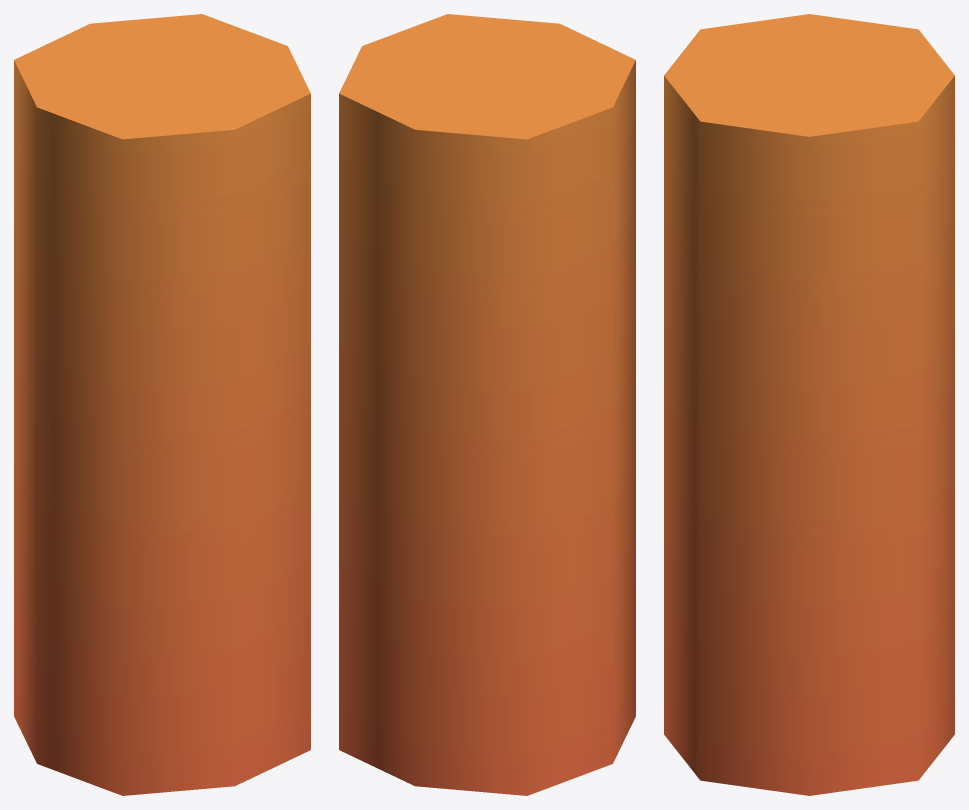
Rendered from bullet-foam.glb.
The picture shows the model from 3 angles, left to right: view 1: azimuth 30°, elevation 25°; view 2: azimuth 150°, elevation 25°; view 3: azimuth 270°, elevation 25°; orthographic projection.
Parts seen in each view (by area): view 1: bullet-foam; view 2: bullet-foam; view 3: bullet-foam.
Boxes of the visible parts, x1,y1,x2,y2 form: bullet-foam: (14, 14, 310, 795); bullet-foam: (339, 14, 635, 795); bullet-foam: (664, 14, 954, 795).
Bounding box in the file's own units: 0.02 × 0.05 × 0.02.
Materials: 1 (1 with a texture image).
